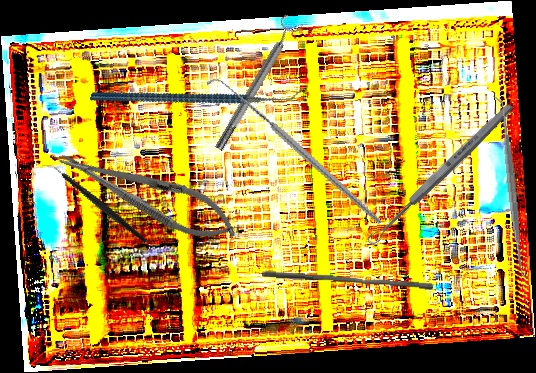Chopper: (89, 20, 303, 167), (41, 138, 148, 269)
Fixation Ring: (207, 13, 305, 155)
Hook Surgical: (205, 42, 384, 262)
Needle Holder: (51, 134, 246, 254)
Pusher: (261, 271, 434, 290)
Spatula Surgical: (491, 93, 532, 282)
Surgical Spoon: (364, 100, 517, 248)
